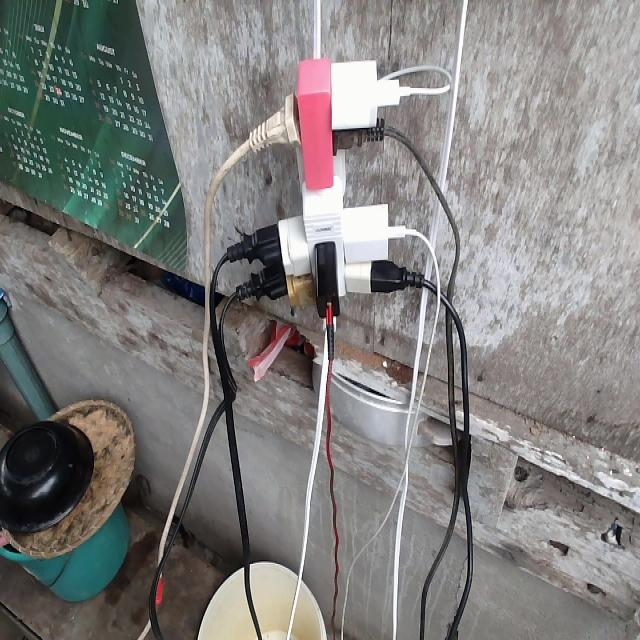-: (230, 58, 419, 350)
